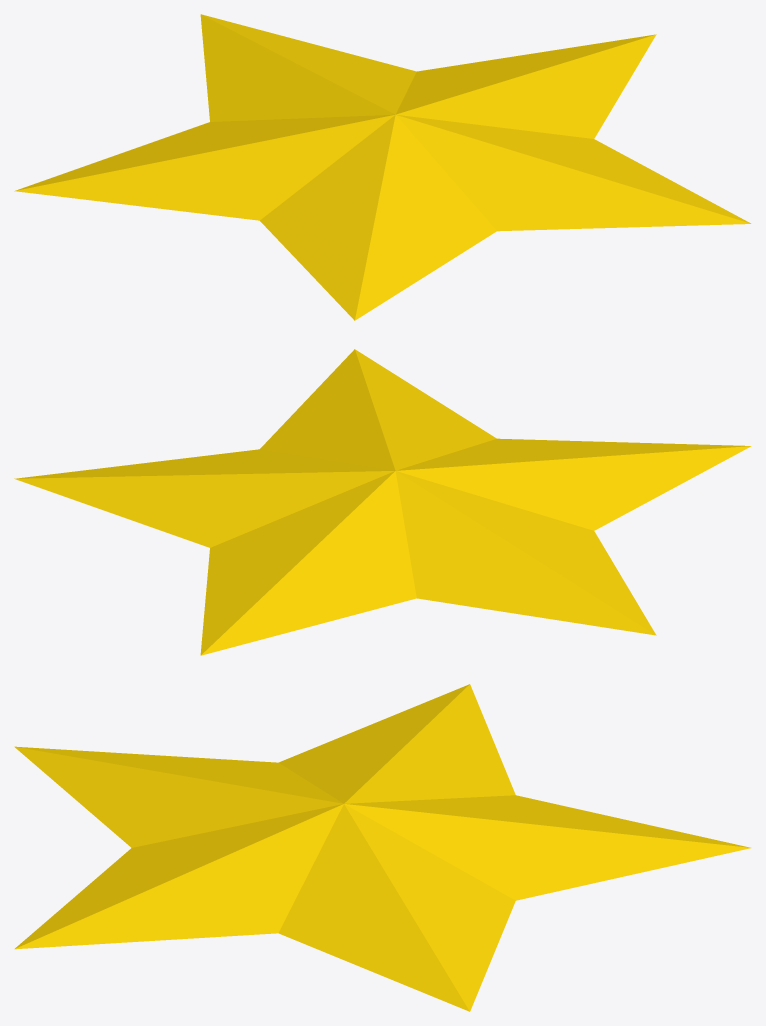
Rendered from star.glb.
3 renders of one model, top to bottom at view 1: azimuth 30°, elevation 25°; view 2: azimuth 150°, elevation 25°; view 3: azimuth 270°, elevation 25°, orthographic. The views are drawn at different scales.
Visible parts, largest first — view 1: Circle; view 2: Circle; view 3: Circle.
Part boxes in pixels (bbox=[...]): Circle: bbox=[14, 14, 751, 320]; Circle: bbox=[14, 349, 751, 655]; Circle: bbox=[14, 684, 750, 1011].
Bounding box in the file's own units: 1.9 × 0.2388 × 1.81.
